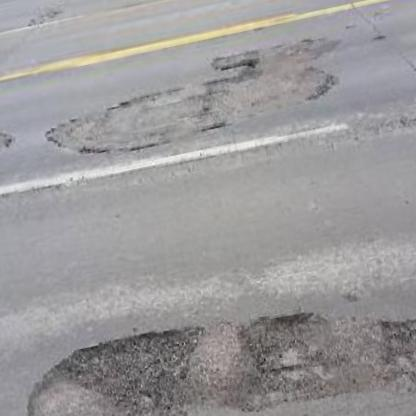pothole: (44, 320, 220, 416), (232, 296, 338, 404), (371, 301, 416, 393), (237, 50, 263, 78)
